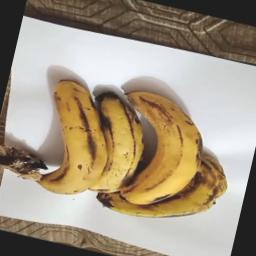Banana Unripe: (96, 74, 246, 239), (18, 70, 120, 211)
